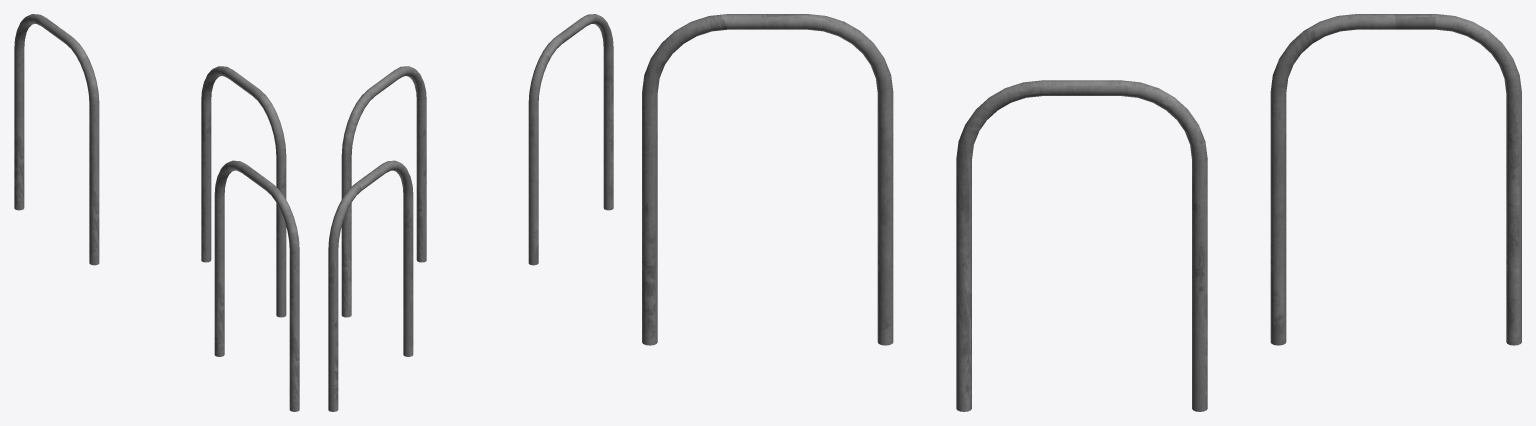
The model's file is SM_BikeStopper_01.fbx.
3 views of the same model, side by side, from view 1: azimuth 30°, elevation 25°; view 2: azimuth 150°, elevation 25°; view 3: azimuth 270°, elevation 25° (orthographic). The views are drawn at different scales.
Visible parts, largest first — view 1: SM_BikeStopper_01_LOD0; view 2: SM_BikeStopper_01_LOD0; view 3: SM_BikeStopper_01_LOD0.
Boxes of the visible parts, x1,y1,x2,y2 form: SM_BikeStopper_01_LOD0: [14, 14, 299, 411]; SM_BikeStopper_01_LOD0: [328, 14, 613, 411]; SM_BikeStopper_01_LOD0: [642, 14, 1521, 411].
Size of the model in its own units: 44 by 224 by 92.
